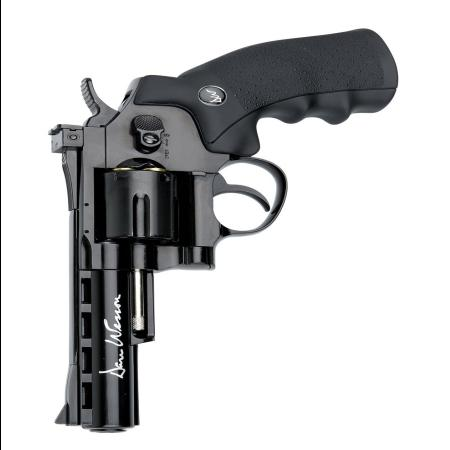Pistol: (45, 28, 406, 434)
